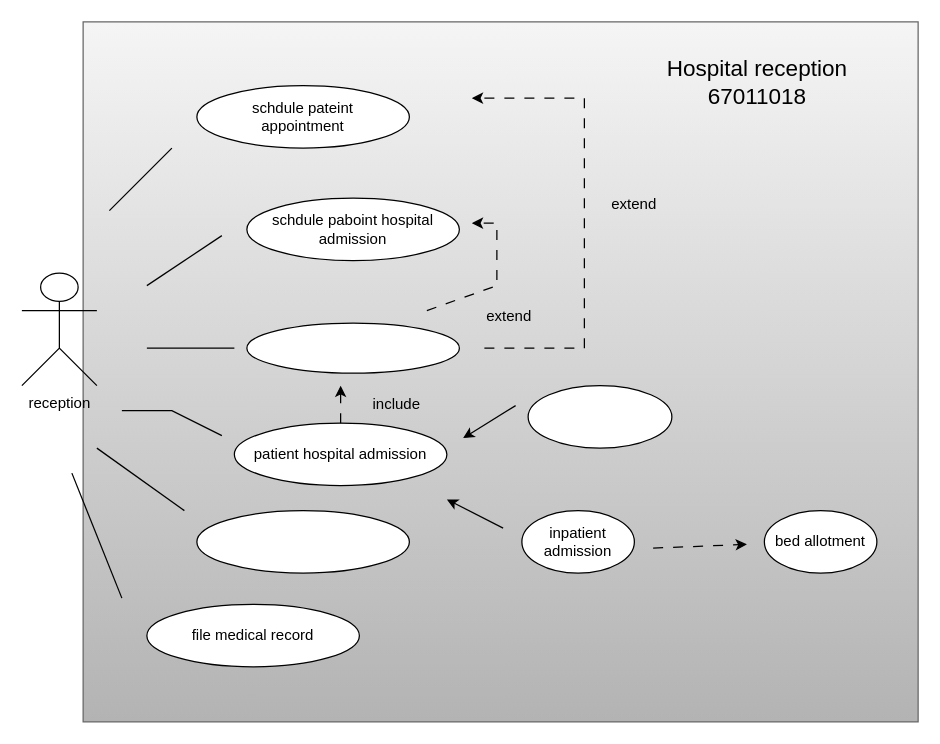
The diagram is 940 pixels wide and 744 high, and some of its shapes have lost their labels. The shapes that lost their labels are listed below. From the top down, each one's centre as x and y in pixels, then its label:
point 352,347: patient registration
point 599,416: outpateint admission
point 302,541: file insurance
